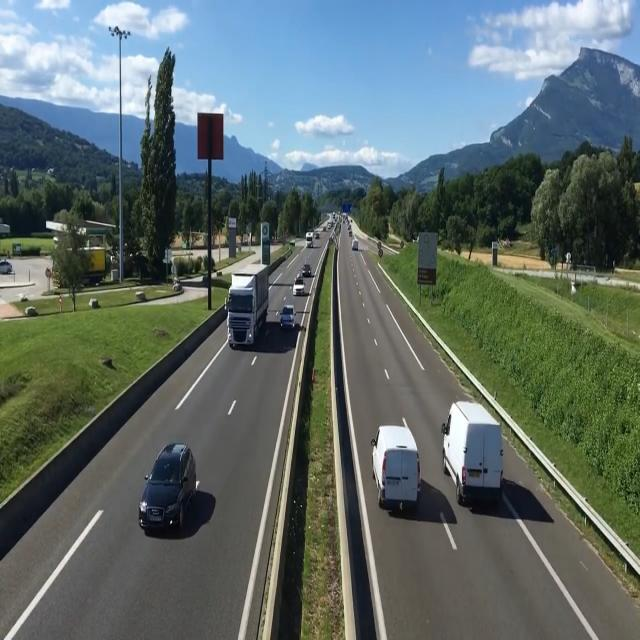car: (436, 397, 502, 500), (140, 444, 207, 539), (376, 428, 419, 518), (278, 298, 298, 333), (291, 273, 307, 297)
truck: (225, 257, 271, 346)
